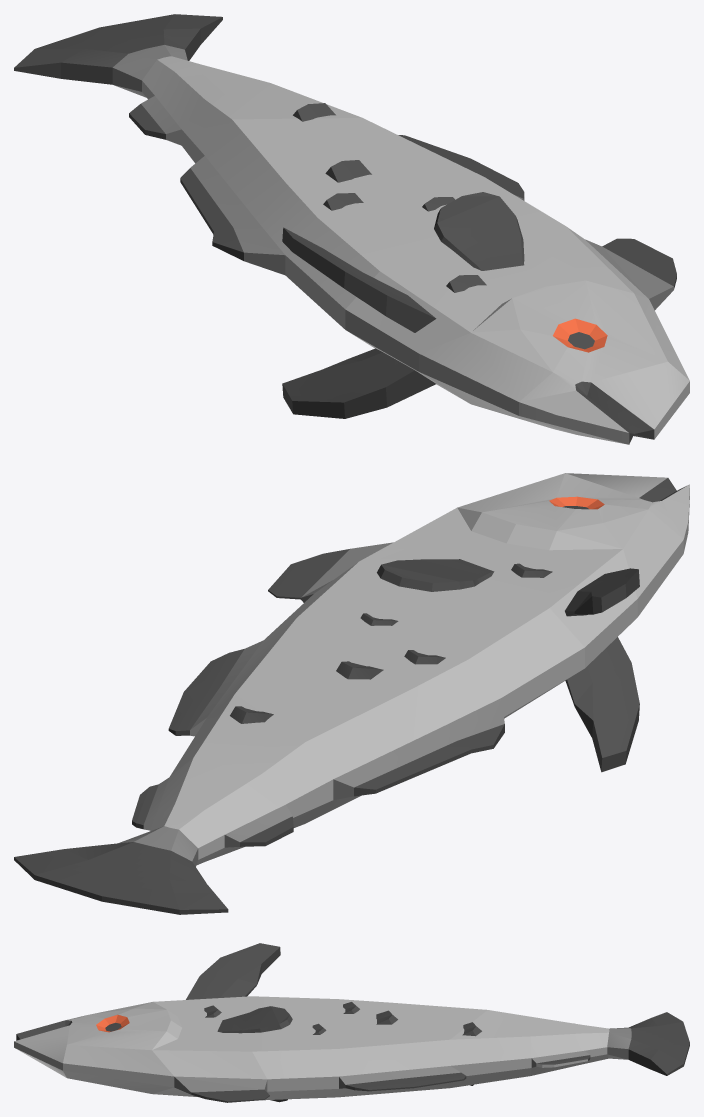
Rendered from fish_6.FBX.
The picture shows the model from 3 angles, top to bottom: view 1: azimuth 30°, elevation 25°; view 2: azimuth 150°, elevation 25°; view 3: azimuth 270°, elevation 25°; orthographic projection. The views are drawn at different scales.
Parts seen in each view (by area): view 1: fish_6; view 2: fish_6; view 3: fish_6.
Boxes of the visible parts, <box> form: fish_6: <box>14,14,689,444</box>; fish_6: <box>14,473,689,914</box>; fish_6: <box>14,943,689,1102</box>.
Bounding box in the file's own units: 17.72 × 8.42 × 47.99.
